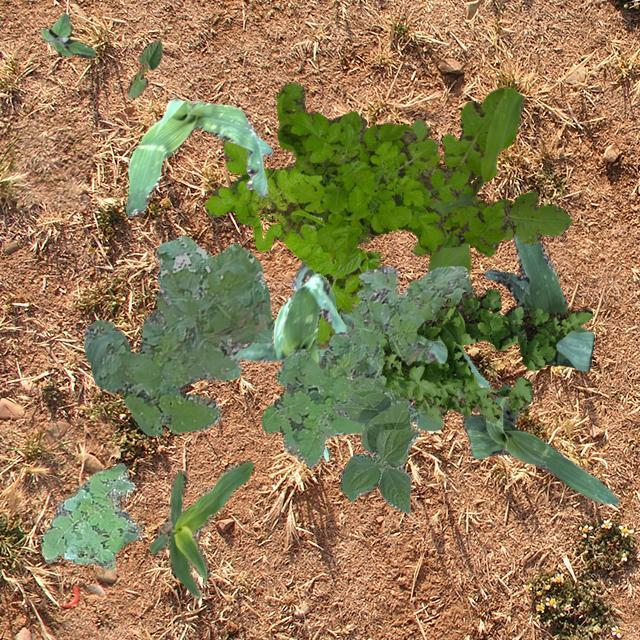crop: (290, 212, 488, 388), (228, 272, 346, 460), (462, 384, 618, 504), (125, 96, 272, 215), (482, 232, 594, 370), (148, 459, 252, 598), (332, 380, 441, 512), (126, 38, 160, 98), (262, 280, 270, 310)
weed: (260, 264, 472, 466), (274, 82, 508, 264), (82, 235, 274, 434), (204, 138, 378, 348), (410, 86, 570, 272), (379, 288, 592, 426), (39, 462, 140, 568), (40, 12, 94, 58)
